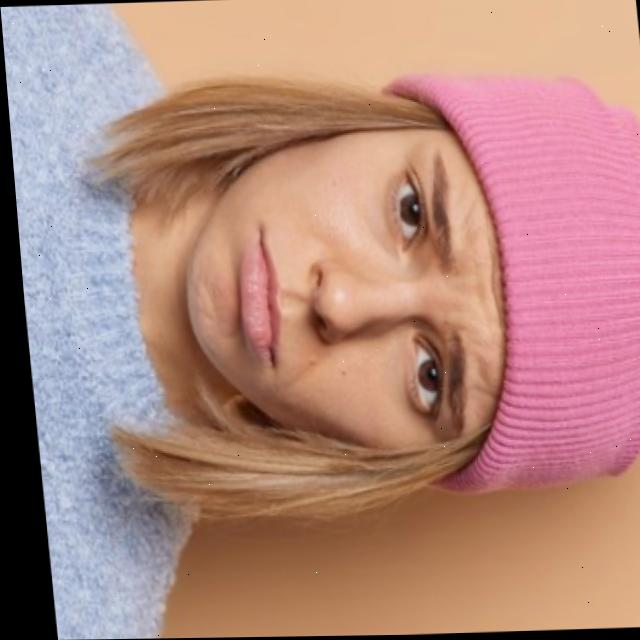sad: (190, 98, 522, 448)
